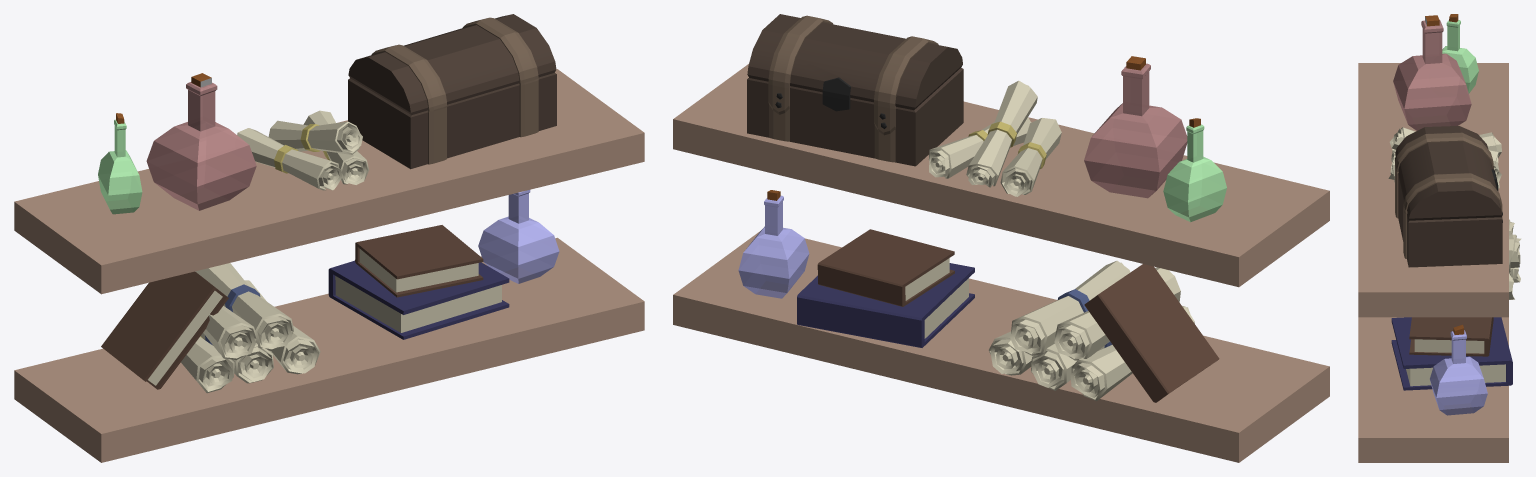
The model's file is shelf.fbx.
The picture shows the model from 3 angles, left to right: view 1: azimuth 30°, elevation 25°; view 2: azimuth 150°, elevation 25°; view 3: azimuth 270°, elevation 25°; orthographic projection. The views are drawn at different scales.
Visible parts, largest first — view 1: shelf, shelf1, chest1, potion11, book2, book4, book3, potion10, scrollBlue11, scrollYellow, potion12, scrollYellow2 (+5 smaller); view 2: shelf1, shelf, chest1, book2, potion11, book4, book3, potion10, potion12, scrollBlue11, scrollYellow2, scrollYellow (+5 smaller); view 3: shelf1, chest1, shelf, potion11, book4, potion10, book3, potion12, scrollYellow2, scrollYellow, scrollBlue11.
Boxes of the visible parts, x1,y1,x2,y2 form: shelf: (14, 237, 644, 462); shelf1: (14, 69, 644, 294); chest1: (348, 14, 556, 169); potion11: (146, 73, 256, 210); book2: (101, 271, 228, 389); book4: (328, 260, 509, 339); book3: (355, 225, 483, 297); potion10: (478, 190, 559, 283); scrollBlue11: (195, 263, 293, 350); scrollYellow: (237, 128, 342, 190); potion12: (98, 113, 142, 214); scrollYellow2: (268, 120, 362, 154); shelf1: (673, 64, 1329, 287); shelf: (673, 231, 1329, 462); chest1: (747, 14, 963, 166); book2: (1084, 264, 1219, 402); potion11: (1084, 56, 1187, 198); book4: (797, 263, 974, 347); book3: (817, 229, 954, 306); potion10: (738, 190, 809, 298); potion12: (1163, 118, 1226, 222); scrollBlue11: (1010, 260, 1130, 355); scrollYellow2: (966, 80, 1037, 187); scrollYellow: (1000, 118, 1061, 196); shelf1: (1358, 63, 1508, 317); chest1: (1395, 126, 1502, 267); shelf: (1358, 317, 1508, 462); potion11: (1393, 15, 1471, 130); book4: (1391, 317, 1512, 390); potion10: (1430, 324, 1487, 415); book3: (1409, 317, 1493, 356); potion12: (1442, 14, 1478, 93); scrollYellow2: (1389, 127, 1499, 170); scrollYellow: (1391, 132, 1501, 162); scrollBlue11: (1509, 235, 1519, 272).
Size of the model in its own units: 5.44 by 3.06 by 1.64.
